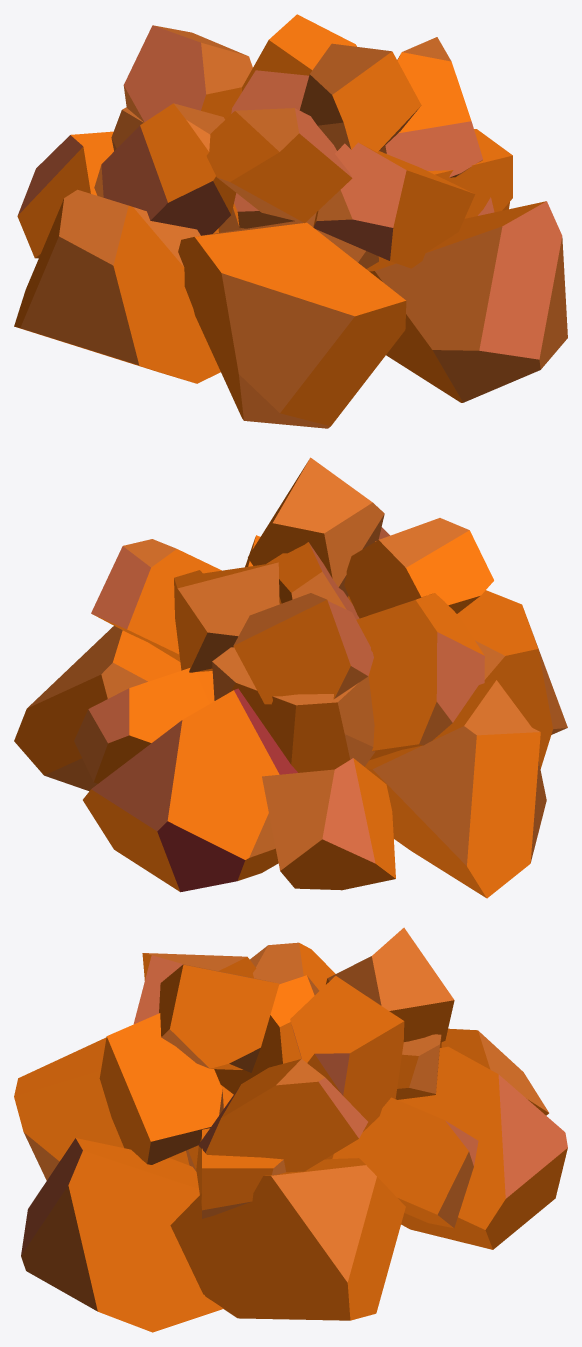
Rendered from pile_iron_small.fbx.
The picture shows the model from 3 angles, top to bottom: view 1: azimuth 30°, elevation 25°; view 2: azimuth 150°, elevation 25°; view 3: azimuth 270°, elevation 25°; orthographic projection. The views are drawn at different scales.
Visible parts, largest first — view 1: Cube.031; view 2: Cube.031; view 3: Cube.031.
Boxes of the visible parts, bbox=[...] form: Cube.031: bbox=[14, 14, 567, 428]; Cube.031: bbox=[14, 457, 567, 898]; Cube.031: bbox=[14, 927, 567, 1332].
Size of the model in its own units: 134 by 85.55 by 132.
